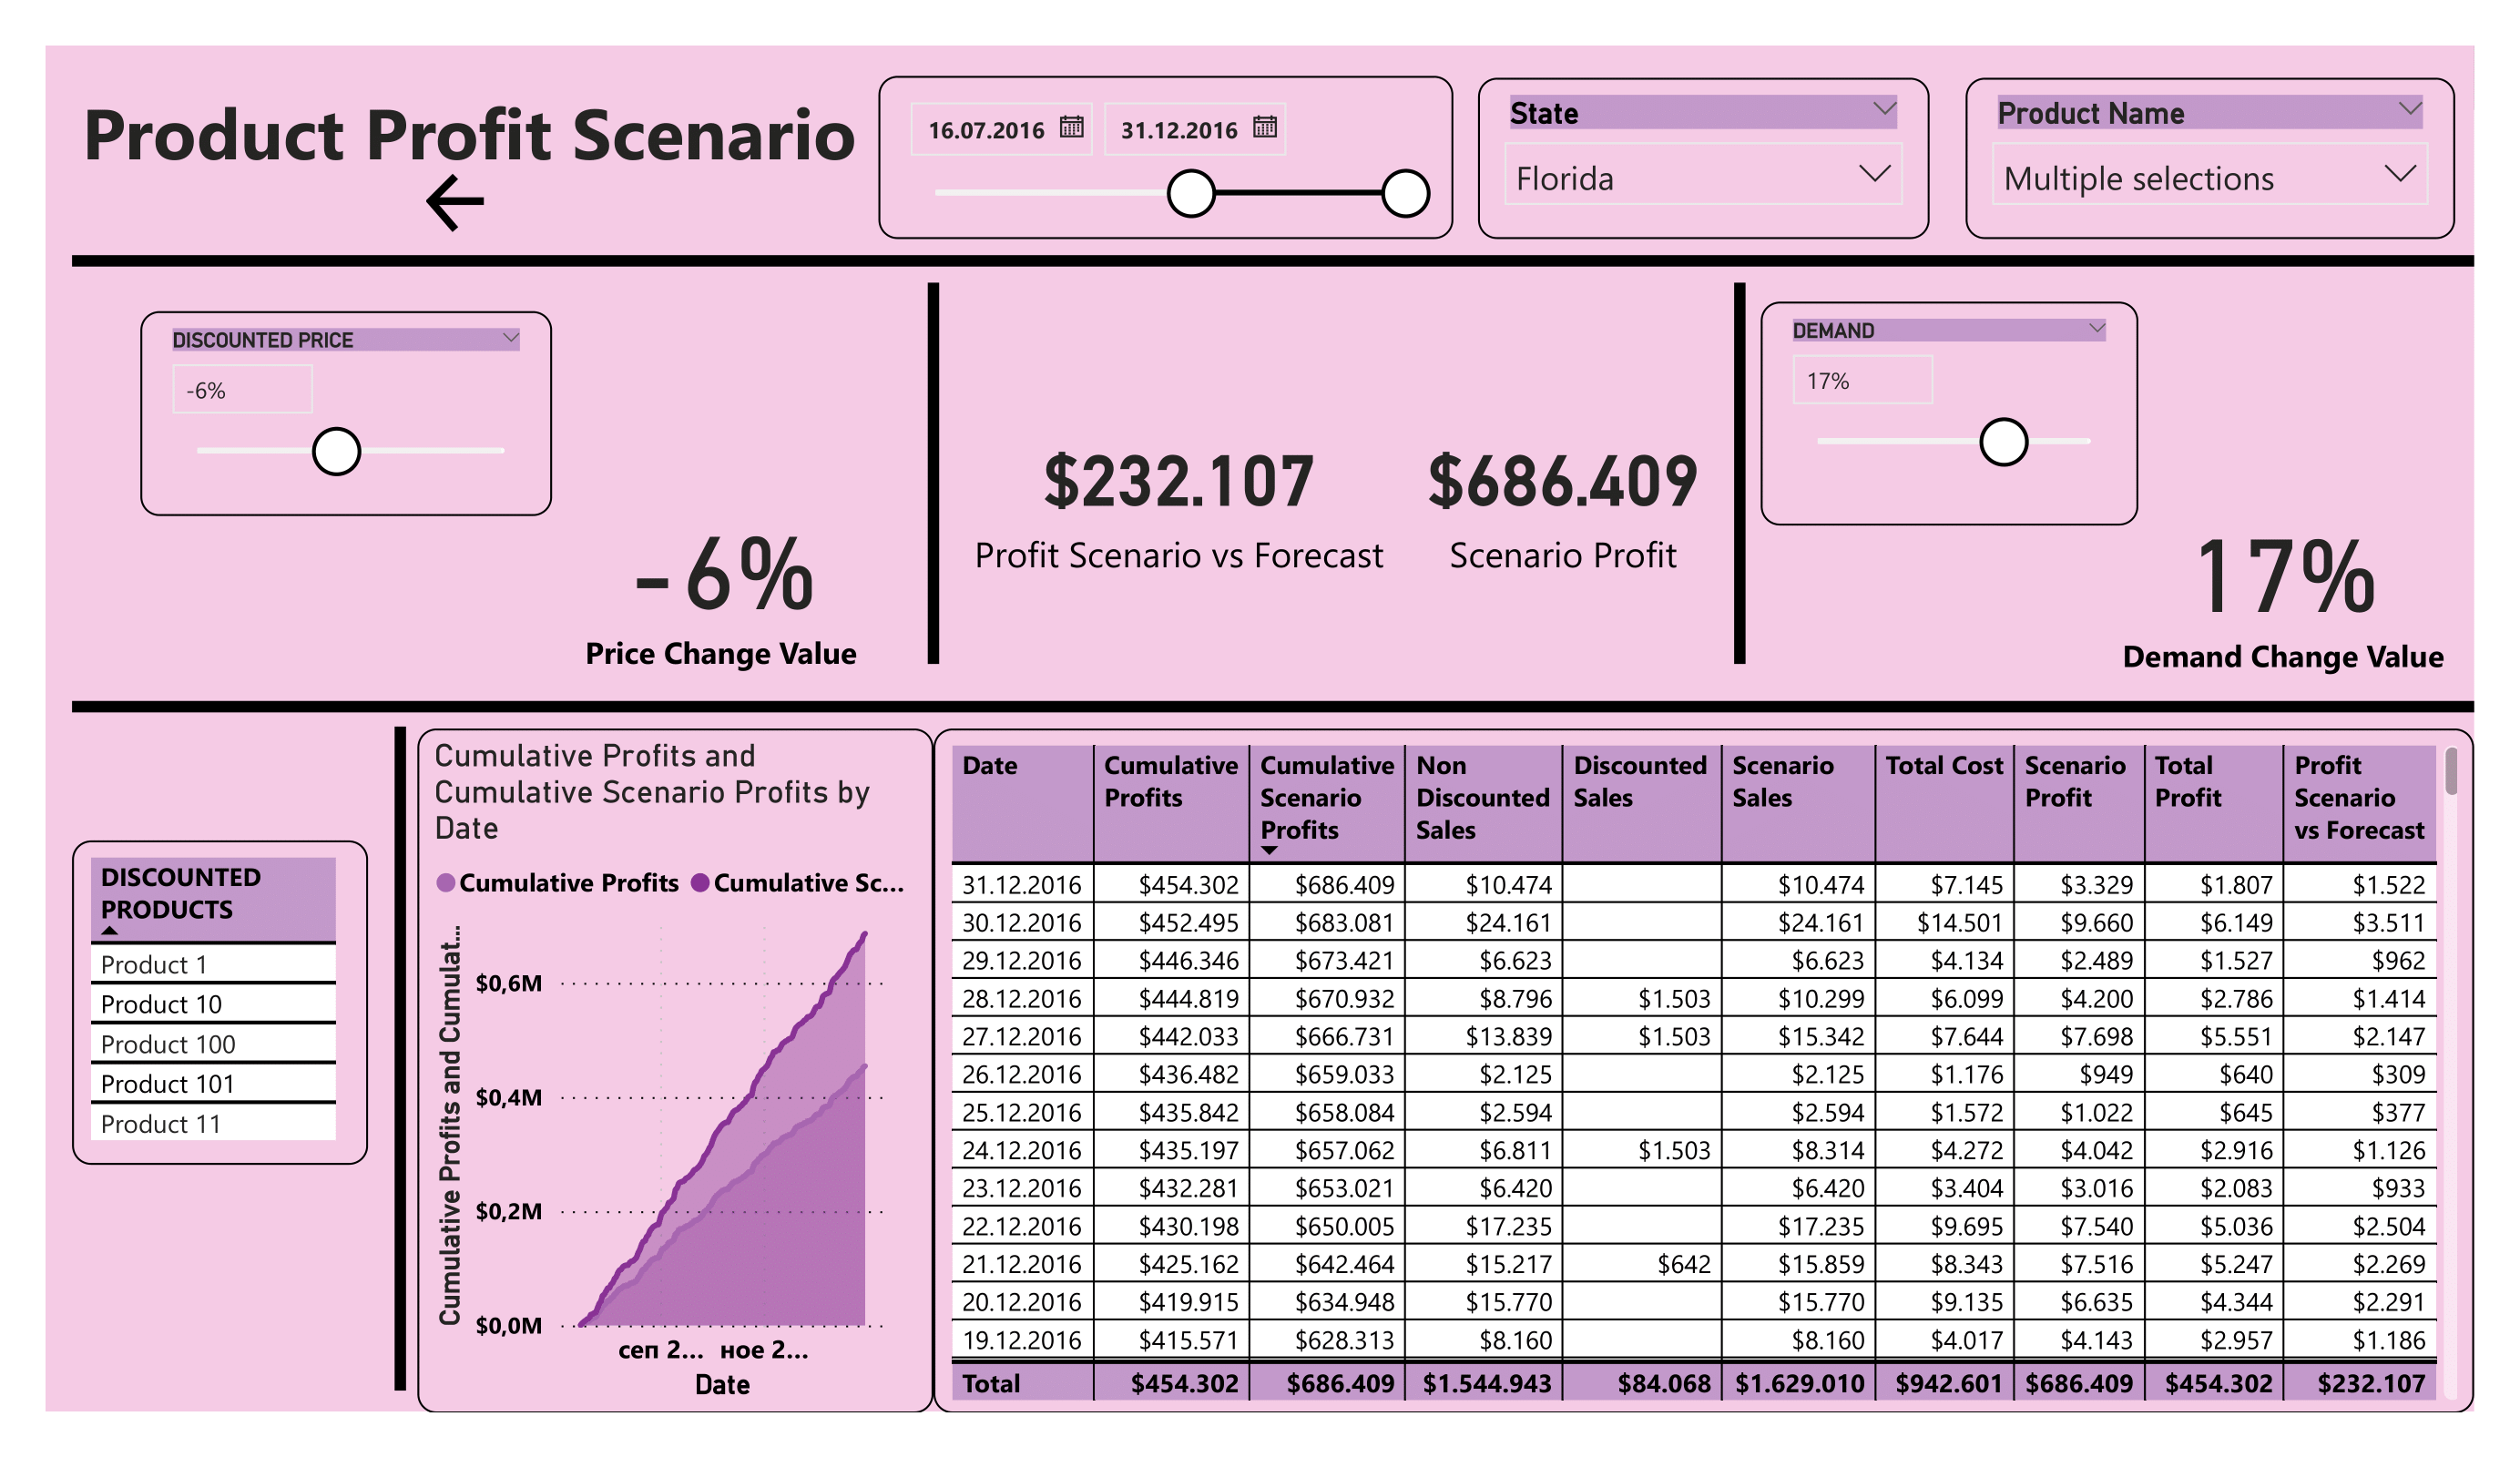

The dashboard page shown, as its layout file describes it:
{"tool":"powerbi","page":{"name":"Product Profit Scenario","canvas":[1280,720],"ordinal":1},"visuals":[{"type":"slicer","fields":{"Values":["Demand Change.Demand Change"]},"box":[903.9,135.1,199.2,118.4],"z":0},{"type":"textbox","box":[14.1,15.3,445.1,58.9],"z":1000},{"type":"shape","box":[14.1,102.4,1265.9,22.4],"z":2000},{"type":"slicer","fields":{"Values":["Dates.Date"]},"box":[438.7,15.6,303.5,86.6],"z":3000},{"type":"slicer","fields":{"Values":["Locations.State"]},"box":[754.8,16.5,238.3,85.6],"z":4000},{"type":"slicer","fields":{"Values":["Products.Product Name"]},"box":[1011.6,16.5,258.7,85.6],"z":5000},{"type":"shape","box":[14.3,336.8,1265.7,22.8],"z":6000},{"type":"shape","box":[459.6,125.4,16.7,200.6],"z":7000},{"type":"shape","box":[881.7,125.4,22.3,200.6],"z":8000},{"type":"shape","box":[178.3,359.3,18.1,349.6],"z":9000},{"type":"card","fields":{"Values":["Demand Change.Demand Change Value"]},"box":[1089.4,224.7,180.9,116.7],"z":10000},{"type":"slicer","fields":{"Values":["Price Change.Price Change"]},"box":[49.6,140.1,216.9,108],"z":11000},{"type":"card","fields":{"Values":["Price Change.Price Change Value"]},"box":[273.3,225.7,165.3,110.9],"z":12000},{"type":"tableEx","fields":{"Values":["Products.Product Name"]},"box":[14.1,419,155.5,170.9],"z":13000},{"type":"actionButton","box":[196.6,62.5,100.3,40.4],"z":14000},{"type":"card","fields":{"Values":["Scenario Measures.Profit Scenario vs Forecast"]},"box":[476.6,194.1,241.2,88.5],"z":15000},{"type":"card","fields":{"Values":["Scenario Measures.Scenario Profit"]},"box":[717.8,194.1,164.1,88.5],"z":16000},{"type":"tableEx","fields":{"Values":["Dates.Date","Cumulative Mesures.Cumulative Profits","Cumulative Mesures.Cumulative Scenario Profits","Discounted Measures.Non Discounted Sales","Discounted Measures.Discounted Sales","Scenario Measures.Scenario Sales","Key Measures.Total Cost","Scenario Measures.Scenario Profit","Key Measures.Total Profit","Scenario Measures.Profit Scenario vs Forecast"]},"box":[468,359.6,812,361],"z":17000},{"type":"areaChart","fields":{"Category":["Dates.Date"],"Y":["Cumulative Mesures.Cumulative Profits","Cumulative Mesures.Cumulative Scenario Profits"]},"box":[196.5,359.9,271.4,360.9],"z":18000}]}

Visuals, with their boxes in screenshot pixels (x1, y1, x2, y2):
slicer - Demand Change.Demand Change: Rect(1760, 301, 2138, 526)
textbox: Rect(72, 75, 917, 187)
shape: Rect(72, 239, 2474, 282)
slicer - Dates.Date: Rect(878, 75, 1454, 239)
slicer - Locations.State: Rect(1478, 76, 1930, 239)
slicer - Products.Product Name: Rect(1965, 76, 2456, 239)
shape: Rect(73, 685, 2474, 728)
shape: Rect(918, 283, 949, 664)
shape: Rect(1719, 283, 1761, 664)
shape: Rect(384, 728, 418, 1391)
card - Demand Change.Demand Change Value: Rect(2113, 472, 2456, 693)
slicer - Price Change.Price Change: Rect(139, 311, 551, 516)
card - Price Change.Price Change Value: Rect(564, 474, 878, 684)
tableEx - Products.Product Name: Rect(72, 841, 367, 1165)
actionButton: Rect(419, 164, 609, 240)
card - Scenario Measures.Profit Scenario vs Forecast: Rect(950, 413, 1408, 582)
card - Scenario Measures.Scenario Profit: Rect(1408, 413, 1719, 582)
tableEx - Dates.Date x Cumulative Mesures.Cumulative Profits: Rect(934, 728, 2474, 1411)
areaChart - Dates.Date x Cumulative Mesures.Cumulative Profits: Rect(418, 728, 934, 1411)
